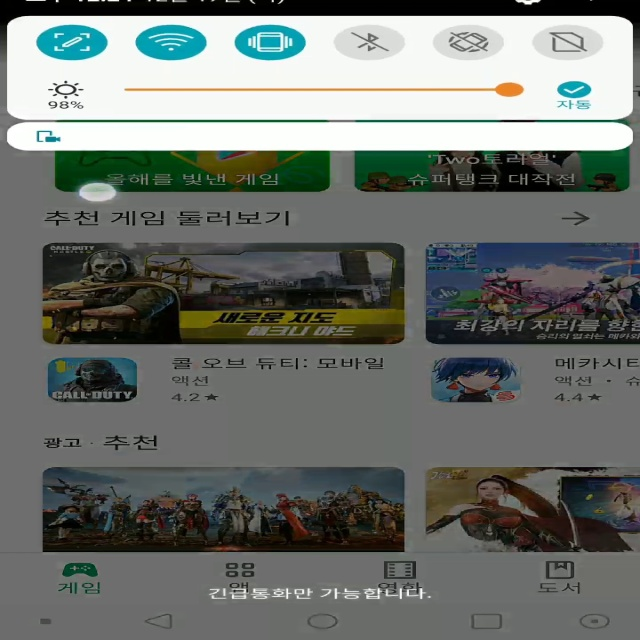Cursor: (76, 182, 120, 204)
